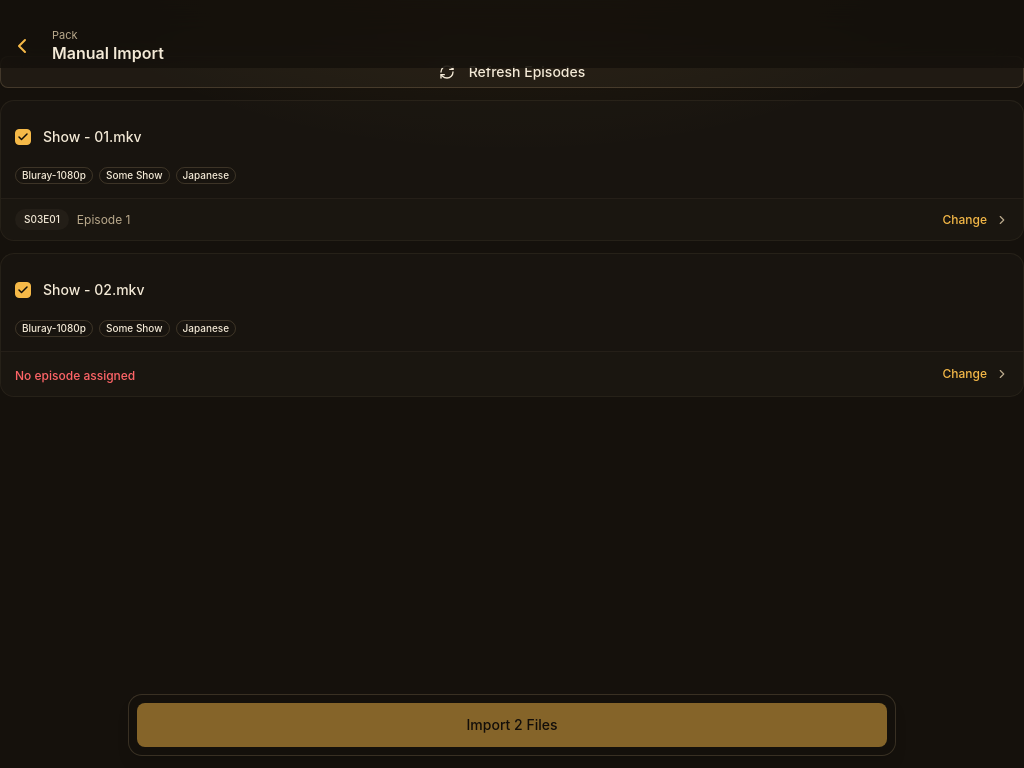
Test case: manual import page › requires episodes even when the scan already matched every file to a series
Check: the button "Import 2 Files" is disabled, box 137,703 -> 887,747
Step 1. Click the button "No episode assigned Change" → (75, 376), box 1,351 -> 1023,396
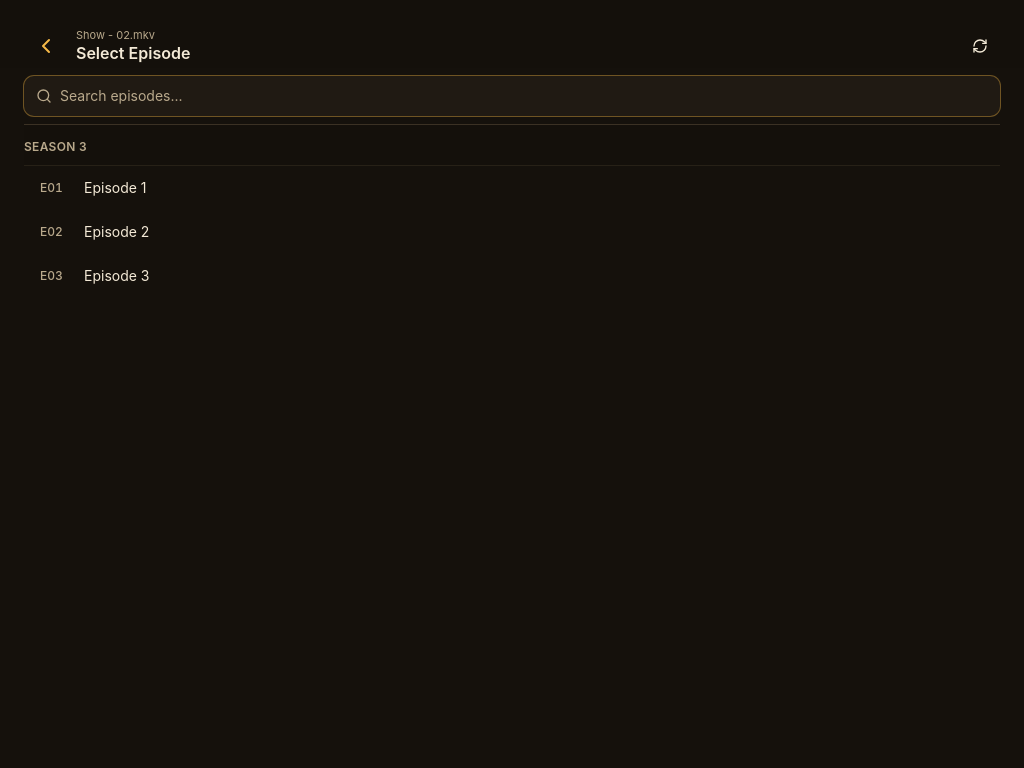
Check: the button "E02 Episode 2" is shown
Step 2. Click the button "E02 Episode 2" → (117, 232), box 24,210 -> 1000,254
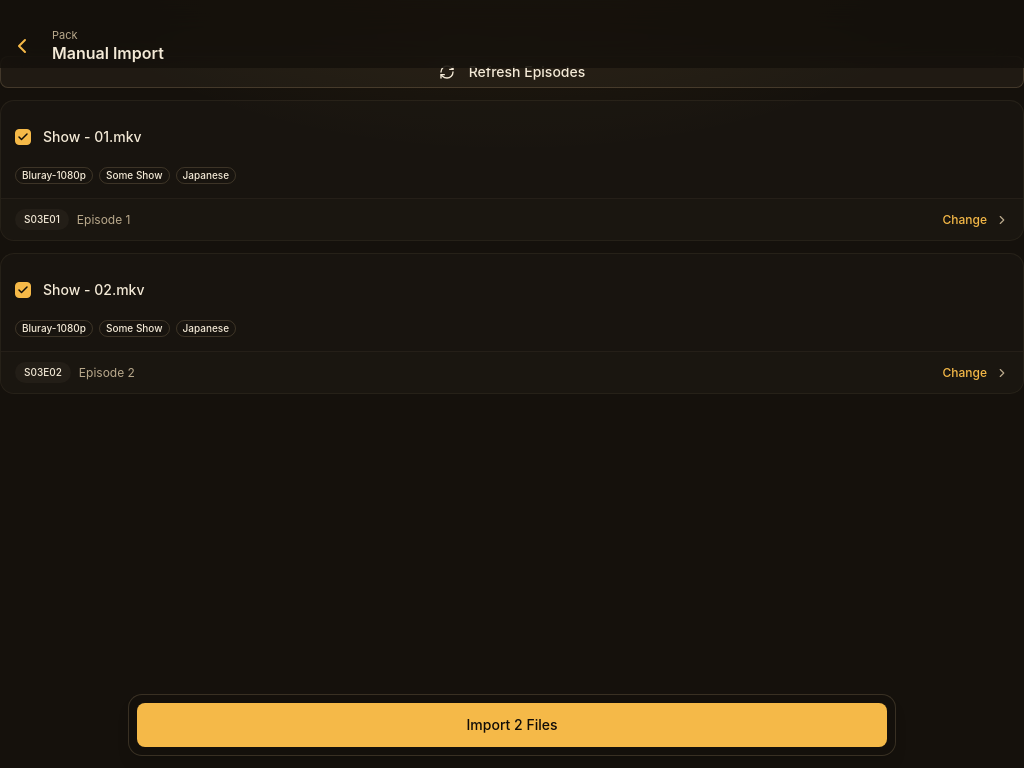
Check: the button "Import 2 Files" is enabled, box 137,703 -> 887,747
